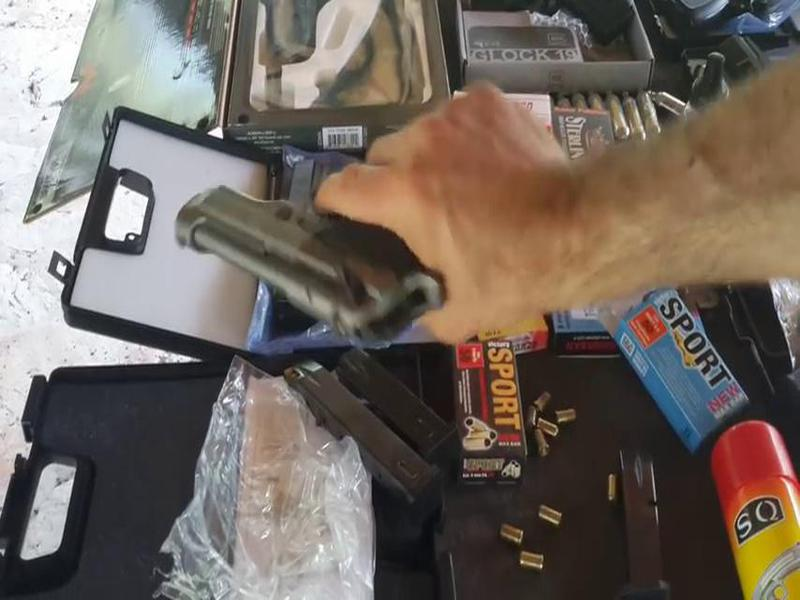Pistola: (142, 149, 467, 352)
